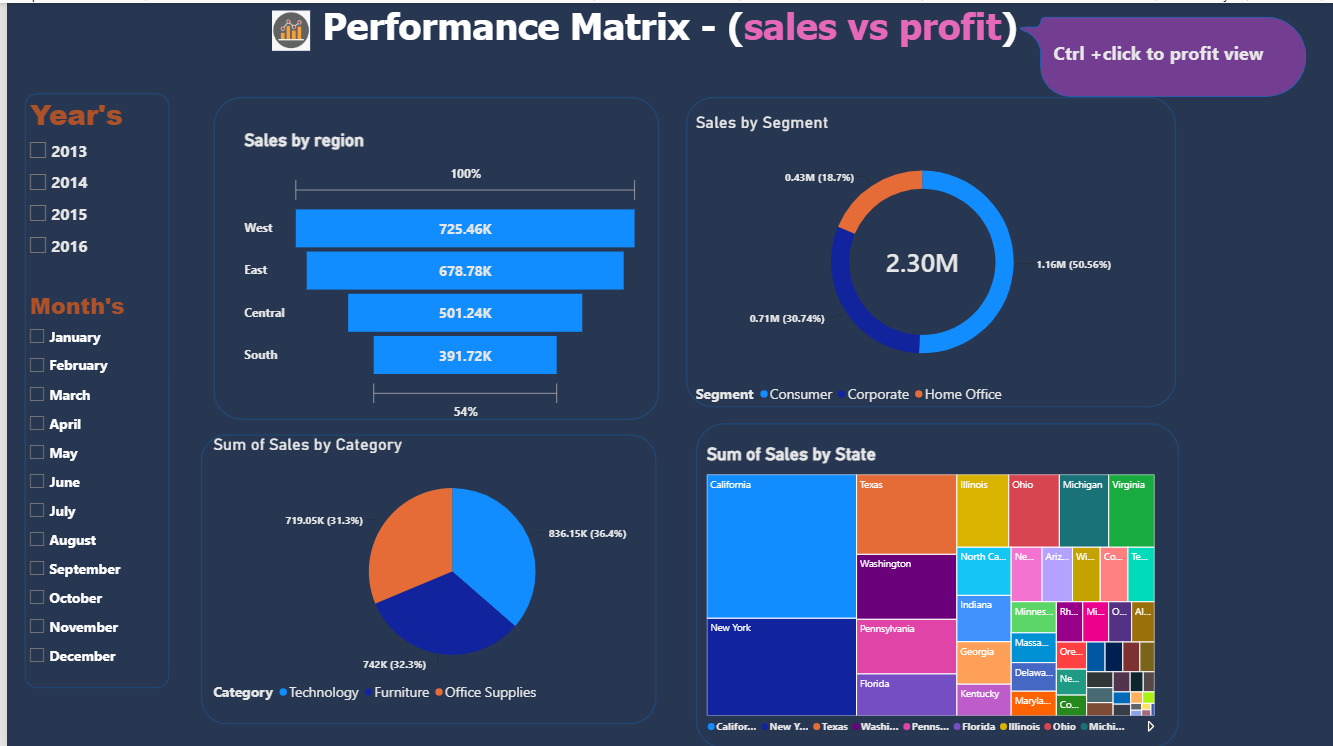

Layout of this report page (visuals, bound fields, positions):
{"tool":"powerbi","page":{"name":"performance matrix ","canvas":[1920,1080],"ordinal":1},"visuals":[{"type":"funnel","title":"Sales by region ","fields":{"Category":["Appendregions.Region"],"Y":["Sum(Appendregions.Sales)"]},"box":[328,170,602,452],"z":0},{"type":"donutChart","title":"Sales by Segment","fields":{"Category":["Appendregions.Segment"],"Y":["Sum(Appendregions.Sales)"]},"box":[998,160,656,424],"z":1000},{"type":"pieChart","fields":{"Category":["Appendregions.Category"],"Y":["Sum(Appendregions.Sales)"]},"box":[298,624,692,390],"z":2000},{"type":"treemap","fields":{"Group":["Appendregions.State"],"Values":["Sum(Appendregions.Sales)"]},"box":[998,624,680,454],"z":3000},{"type":"shape","box":[298,136,646,468],"z":3500},{"type":"shape","box":[280,624,660,420],"z":3750},{"type":"textbox","box":[0,0,1920,136],"z":4000},{"type":"shape","box":[998,608,700,472],"z":4750},{"type":"shape","box":[982,136,710,450],"z":5500},{"type":"shape","box":[26,130,210,862],"z":8500},{"type":"slicer","fields":{"Values":["Appendregions.Order Date.Variation.Date Hierarchy.Year"]},"box":[26,132,254,286],"z":9000},{"type":"slicer","fields":{"Values":["Appendregions.Order Date.Variation.Date Hierarchy.Month"]},"box":[26,414,164,630],"z":11000},{"type":"shape","box":[1454,20,428,116],"z":17000},{"type":"image","box":[350,10,124,58],"z":18000}]}

Visuals, with their boxes in screenshot pixels (x1, y1, x2, y2), scaled from the page's 1920x1080 canvas onto the 1333x746 screenshot:
"Sales by region " funnel: (left=228, top=117, right=646, bottom=430)
"Sales by Segment" donutChart: (left=693, top=111, right=1148, bottom=403)
pieChart - Appendregions.Category x Sum(Appendregions.Sales): (left=207, top=431, right=687, bottom=700)
treemap - Appendregions.State x Sum(Appendregions.Sales): (left=693, top=431, right=1165, bottom=745)
shape: (left=207, top=94, right=655, bottom=417)
shape: (left=194, top=431, right=653, bottom=721)
textbox: (left=0, top=0, right=1332, bottom=94)
shape: (left=693, top=420, right=1179, bottom=745)
shape: (left=682, top=94, right=1175, bottom=405)
shape: (left=18, top=90, right=164, bottom=685)
slicer - Appendregions.Order Date.Variation.Date Hierarchy.Year: (left=18, top=91, right=194, bottom=289)
slicer - Appendregions.Order Date.Variation.Date Hierarchy.Month: (left=18, top=286, right=132, bottom=721)
shape: (left=1009, top=14, right=1307, bottom=94)
image: (left=243, top=7, right=329, bottom=47)
